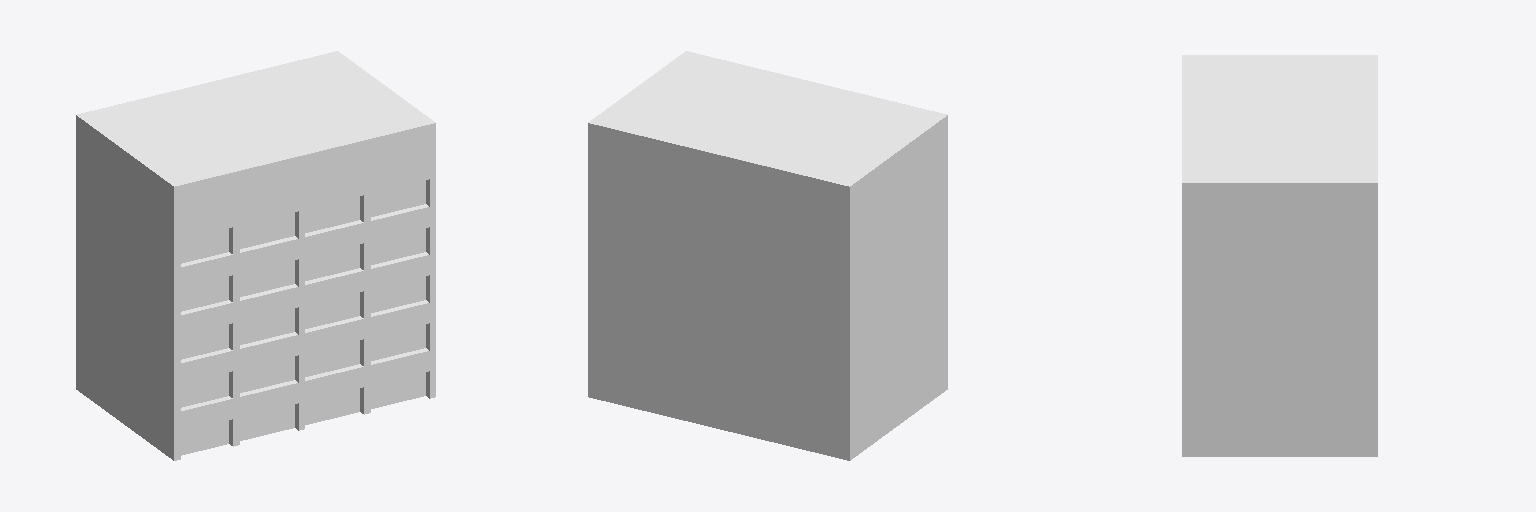
The model's file is building_01.obj.
The picture shows the model from 3 angles: view 1: azimuth 30°, elevation 25°; view 2: azimuth 150°, elevation 25°; view 3: azimuth 270°, elevation 25°; orthographic projection.
Visible parts, largest first — view 1: object 1; view 2: object 1; view 3: object 1.
Boxes of the visible parts, box(x1,y1,x2,y2) form: object 1: box(76, 51, 435, 460); object 1: box(588, 51, 947, 460); object 1: box(1182, 55, 1377, 456).
Bounding box in the file's own units: 4 × 4 × 2.6.